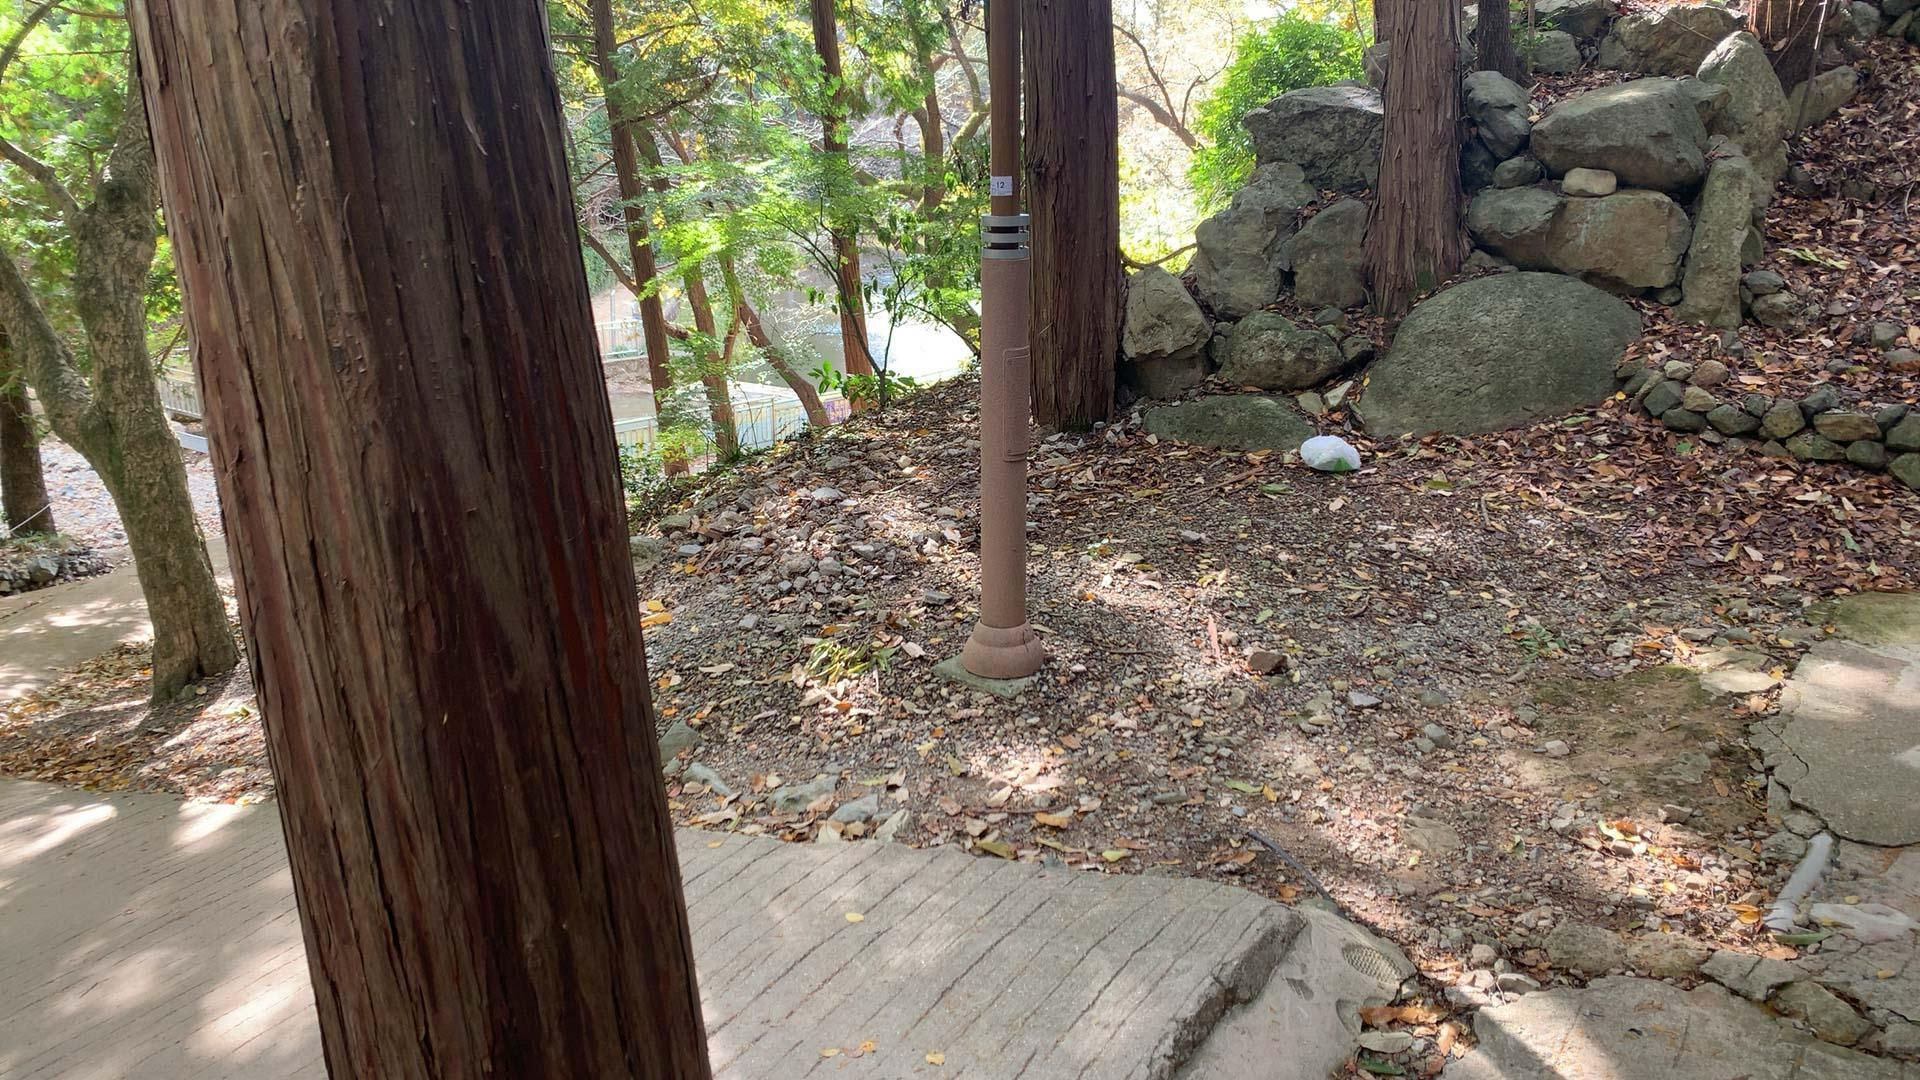white_bag: (1294, 429, 1364, 477)
